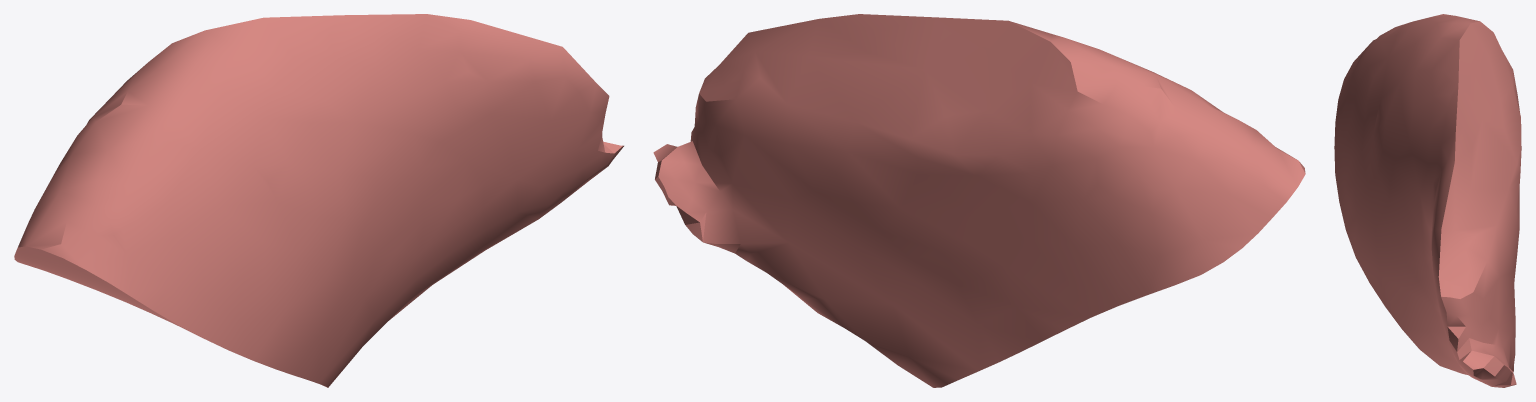
The model's file is fma39283-n_mm1942.glb.
The picture shows the model from 3 angles, left to right: view 1: azimuth 30°, elevation 25°; view 2: azimuth 150°, elevation 25°; view 3: azimuth 270°, elevation 25°; orthographic projection. The views are drawn at different scales.
Parts seen in each view (by area): view 1: FMA39283-N_MM1942; view 2: FMA39283-N_MM1942; view 3: FMA39283-N_MM1942.
Part boxes in pixels (x1,y1,x2,y2): FMA39283-N_MM1942: [14, 14, 623, 387]; FMA39283-N_MM1942: [653, 14, 1305, 387]; FMA39283-N_MM1942: [1334, 14, 1521, 387].
Size of the model in its own units: 0.0162 by 0.00932 by 0.00502.
